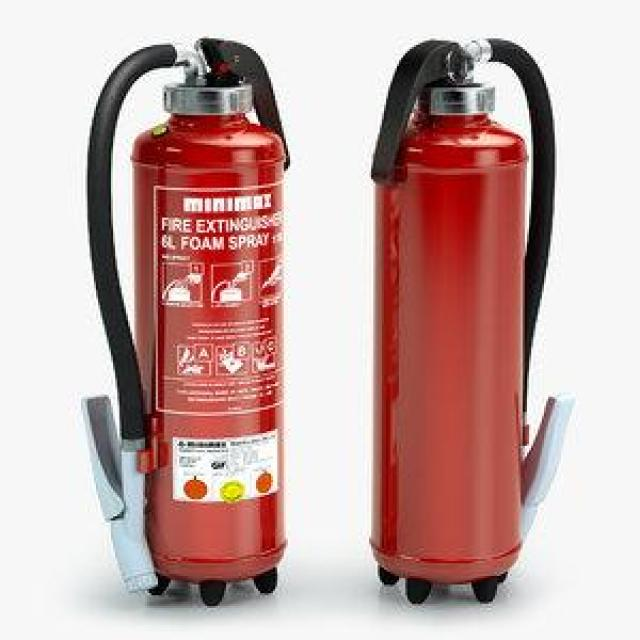fire_extinguisher: (74, 28, 298, 610), (358, 30, 582, 610)
